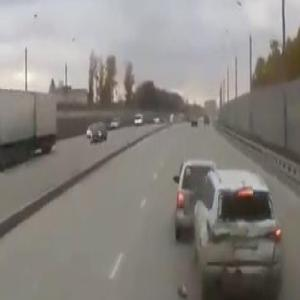serious: (169, 152, 285, 300)
